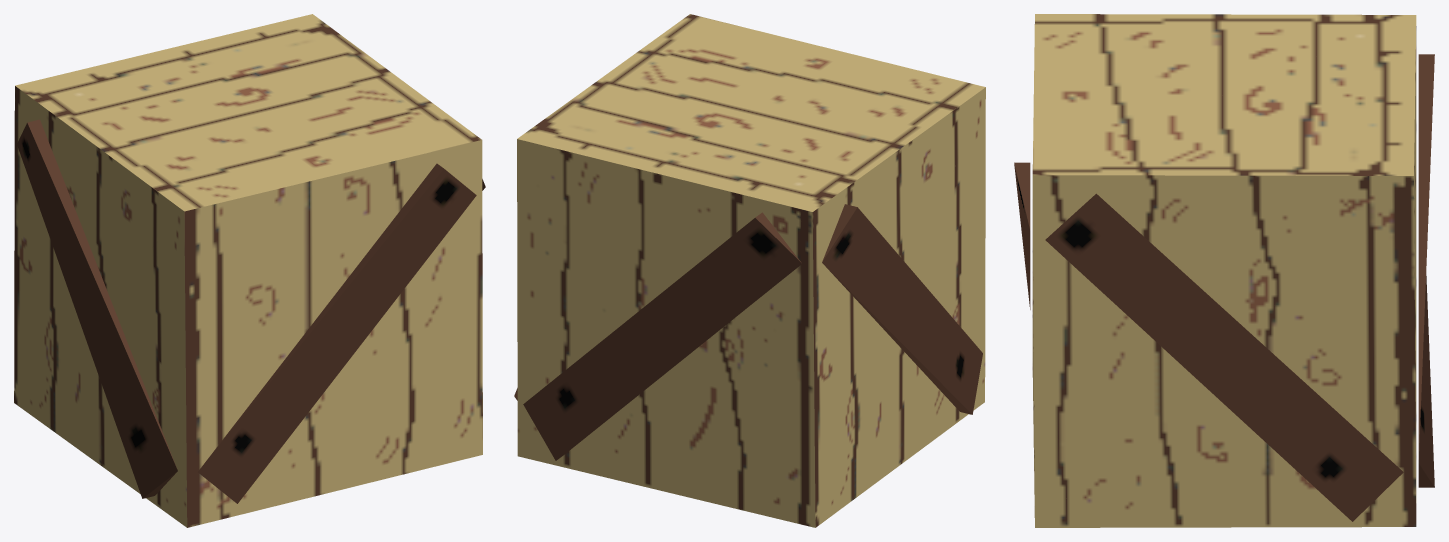
3 views of the same model, side by side, from view 1: azimuth 30°, elevation 25°; view 2: azimuth 150°, elevation 25°; view 3: azimuth 270°, elevation 25° (orthographic). The views are drawn at different scales.
Parts seen in each view (by area): view 1: лодд1; view 2: лодд1; view 3: лодд1.
Part boxes in pixels (x1,y1,x2,y2): лодд1: [14, 14, 485, 527]; лодд1: [514, 14, 985, 527]; лодд1: [1014, 14, 1434, 527].
Size of the model in its own units: 216 by 217 by 200.
